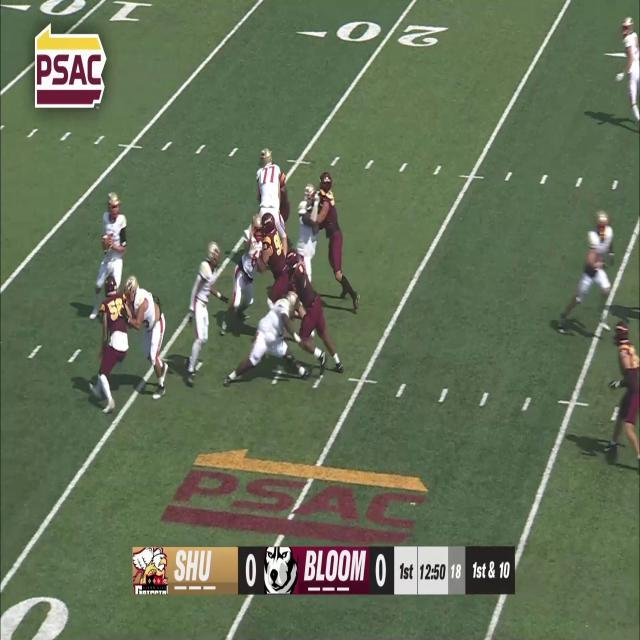football: (100, 233, 110, 252)
